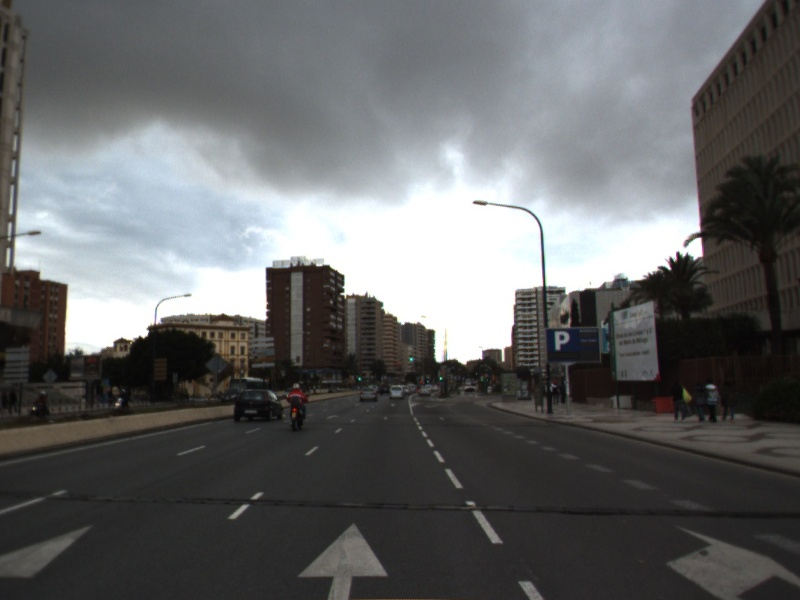RIGHT: (663, 520, 800, 600)
STRAIGHT: (293, 518, 393, 600)
